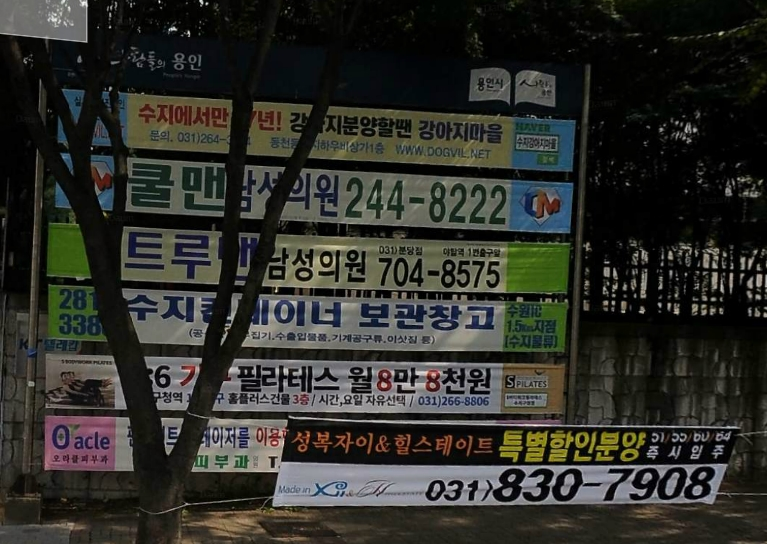banner: (49, 149, 573, 237), (277, 415, 732, 512), (55, 88, 582, 171), (40, 218, 580, 298), (38, 345, 576, 423), (43, 280, 568, 355)
